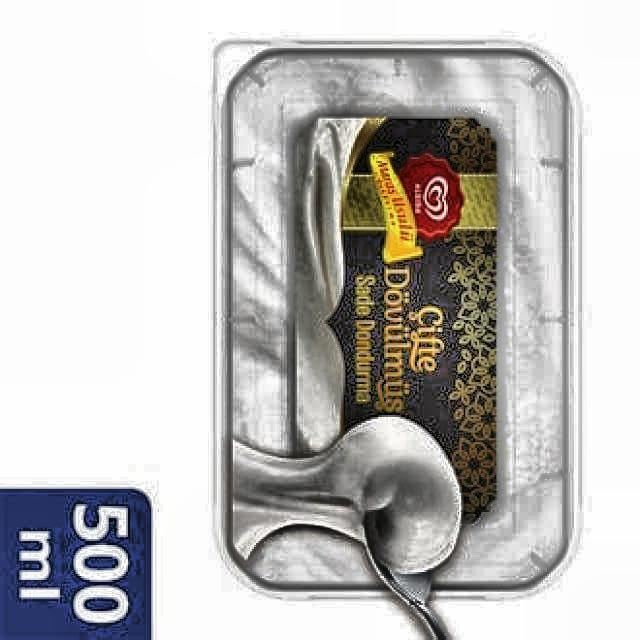plastic: (211, 37, 583, 598)
